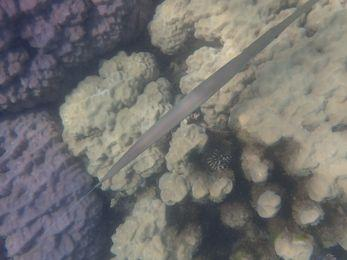Fistularia commersonii: (34, 9, 347, 173)
